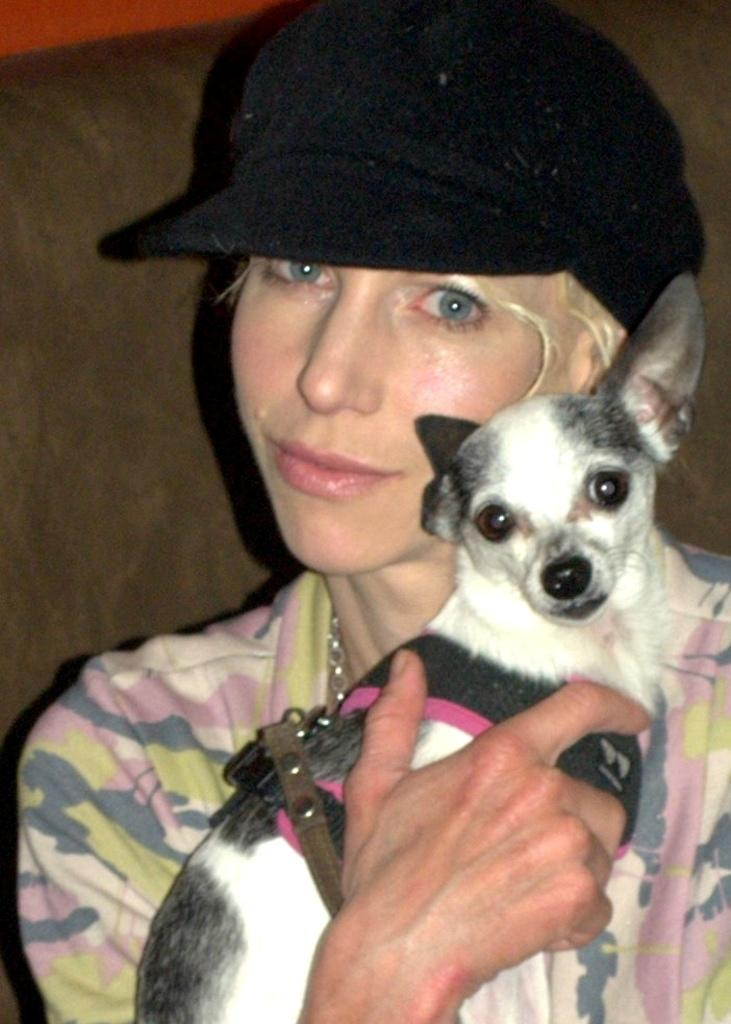Hat: (127, 0, 709, 333)
